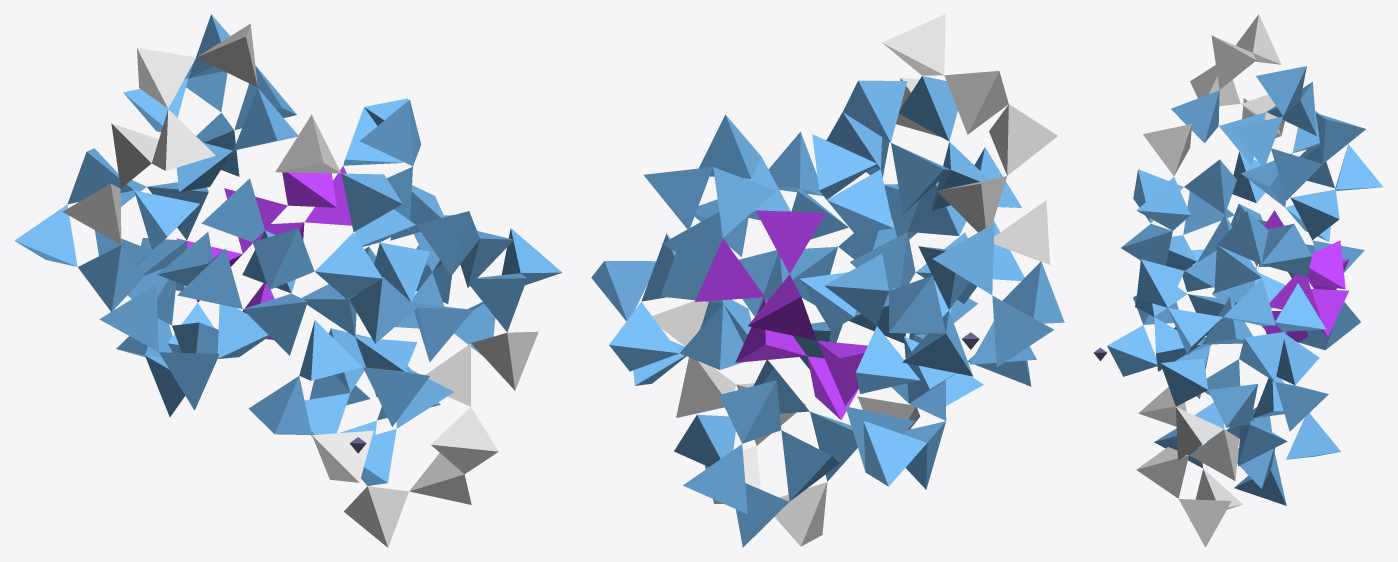
File: 01_Dimer_WithBottomZinc.fbx
The picture shows the model from 3 angles, left to right: view 1: azimuth 30°, elevation 25°; view 2: azimuth 150°, elevation 25°; view 3: azimuth 270°, elevation 25°; orthographic projection. The views are drawn at different scales.
Visible parts, largest first — view 1: 01_Dimer_WithBottomZinc; view 2: 01_Dimer_WithBottomZinc; view 3: 01_Dimer_WithBottomZinc.
Boxes of the visible parts, box(x1,y1,x2,y2) form: 01_Dimer_WithBottomZinc: box(14, 14, 562, 547); 01_Dimer_WithBottomZinc: box(591, 14, 1064, 547); 01_Dimer_WithBottomZinc: box(1093, 14, 1382, 547).
Size of the model in its own units: 419 by 433 by 262.
Materials: 1 (1 with a texture image).
